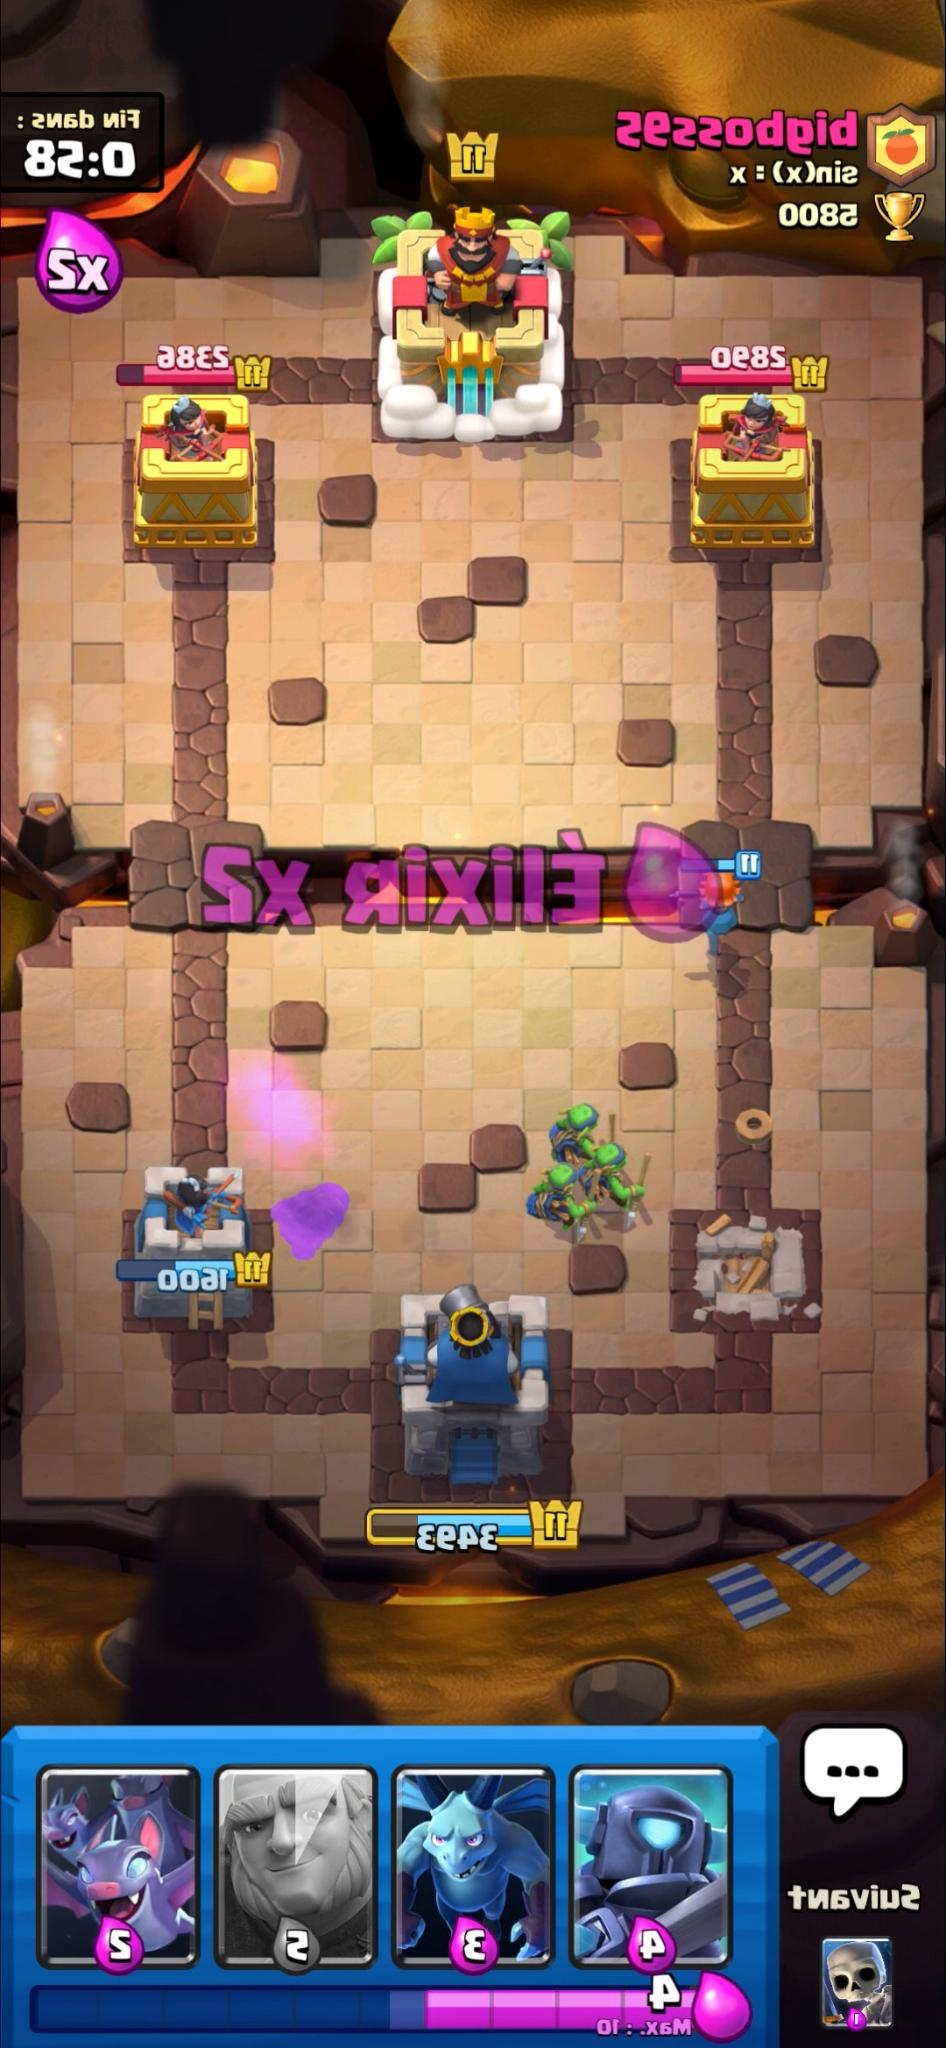gobelin_lances: (580, 1144, 649, 1225), (546, 1102, 613, 1168), (527, 1170, 588, 1240)
valkyrie: (666, 872, 746, 957)
